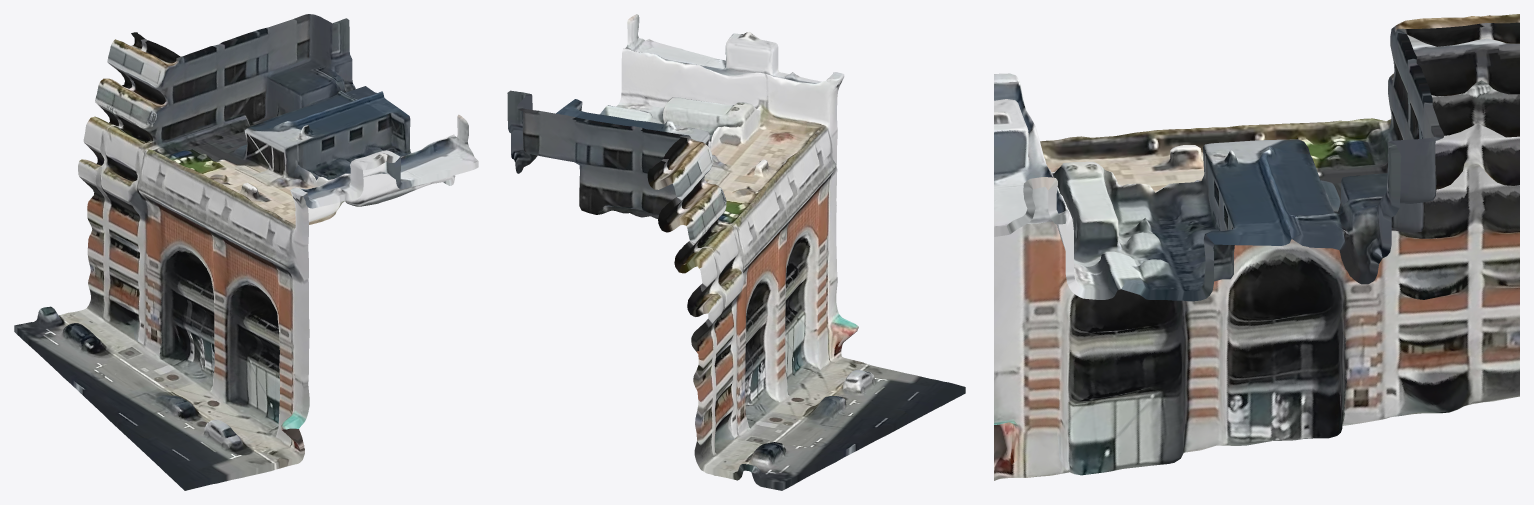
File: z20-167754-405238-h0-yup-uvflip-v3-world.glb
3 views of the same model, side by side, from view 1: azimuth 30°, elevation 25°; view 2: azimuth 150°, elevation 25°; view 3: azimuth 270°, elevation 25° (orthographic). The views are drawn at different scales.
Bounding box in the file's own units: 30.16 × 30 × 30.32.
1 material, 1 textured.
